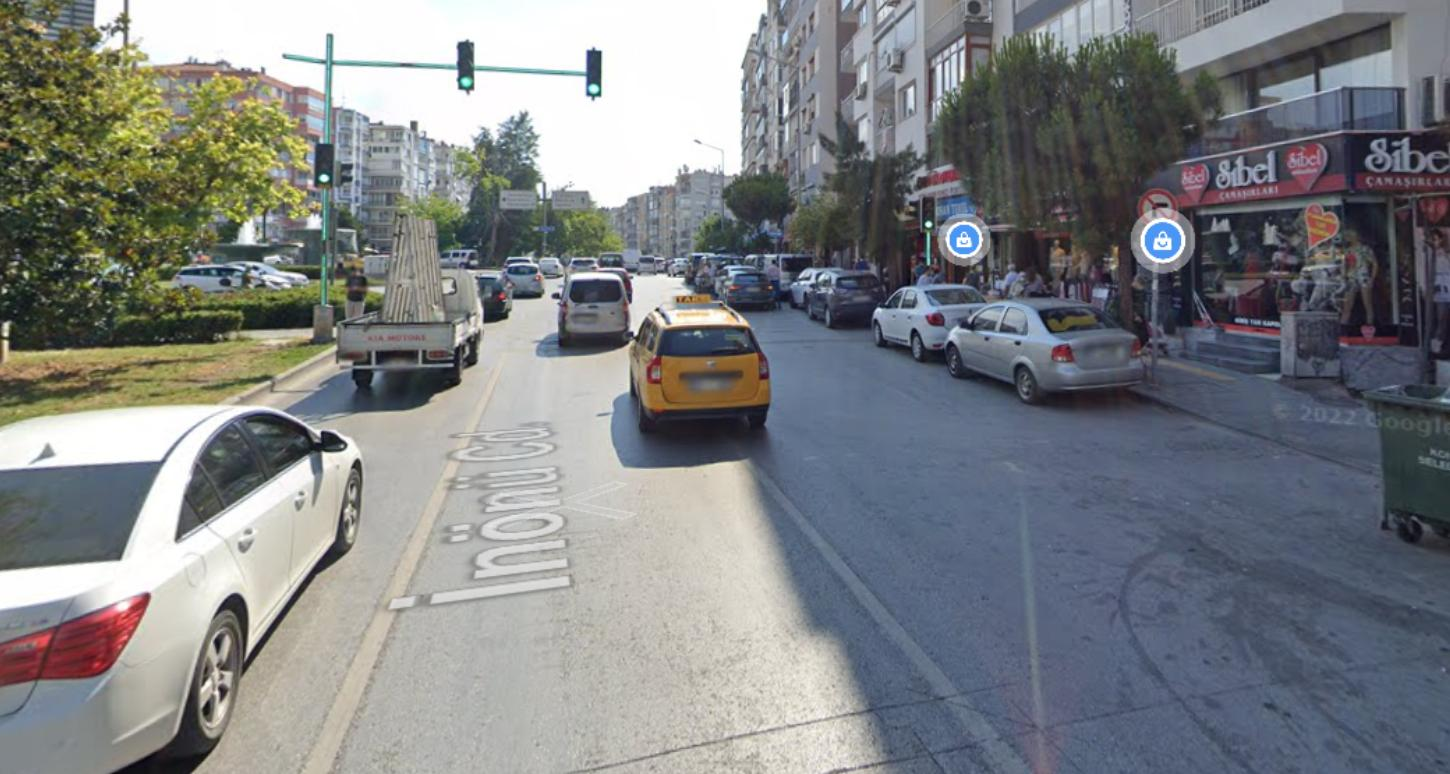greenlight: (458, 40, 476, 90), (314, 141, 333, 185), (586, 49, 601, 97)
